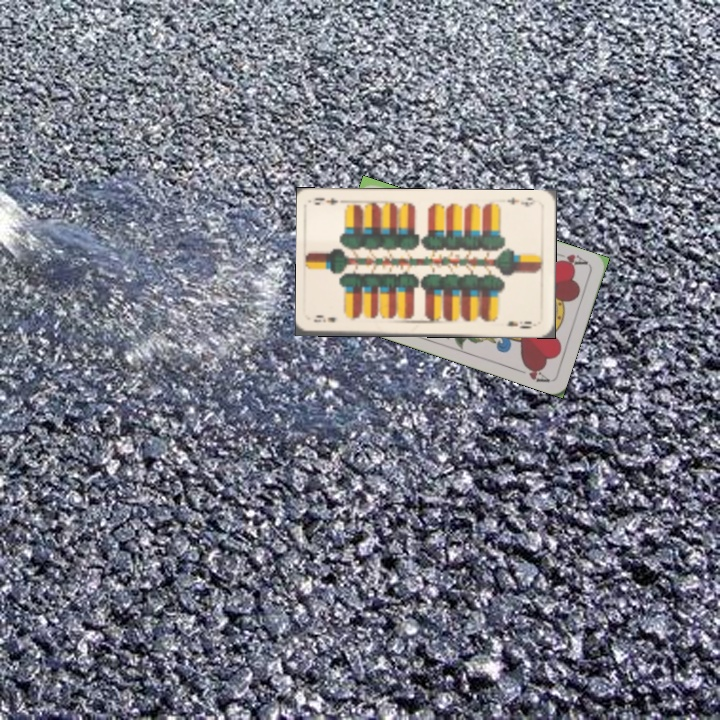E9: (503, 193, 538, 210), (310, 312, 339, 325)
HA: (552, 250, 591, 270)
